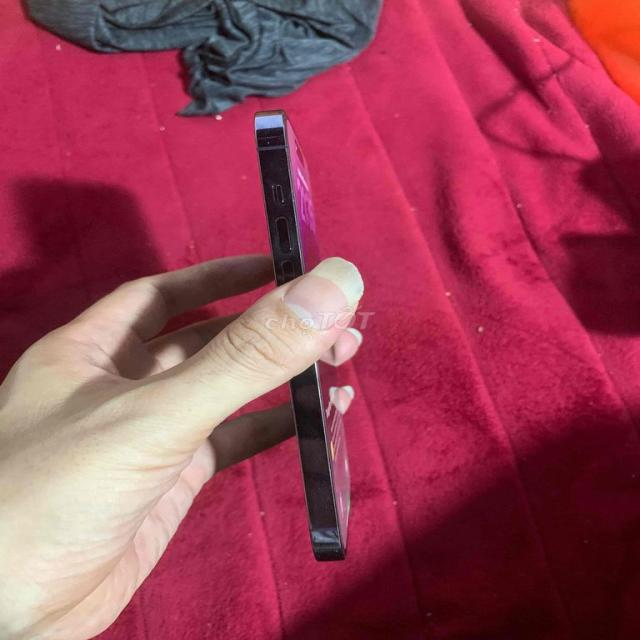scratch: (260, 127, 279, 153)
